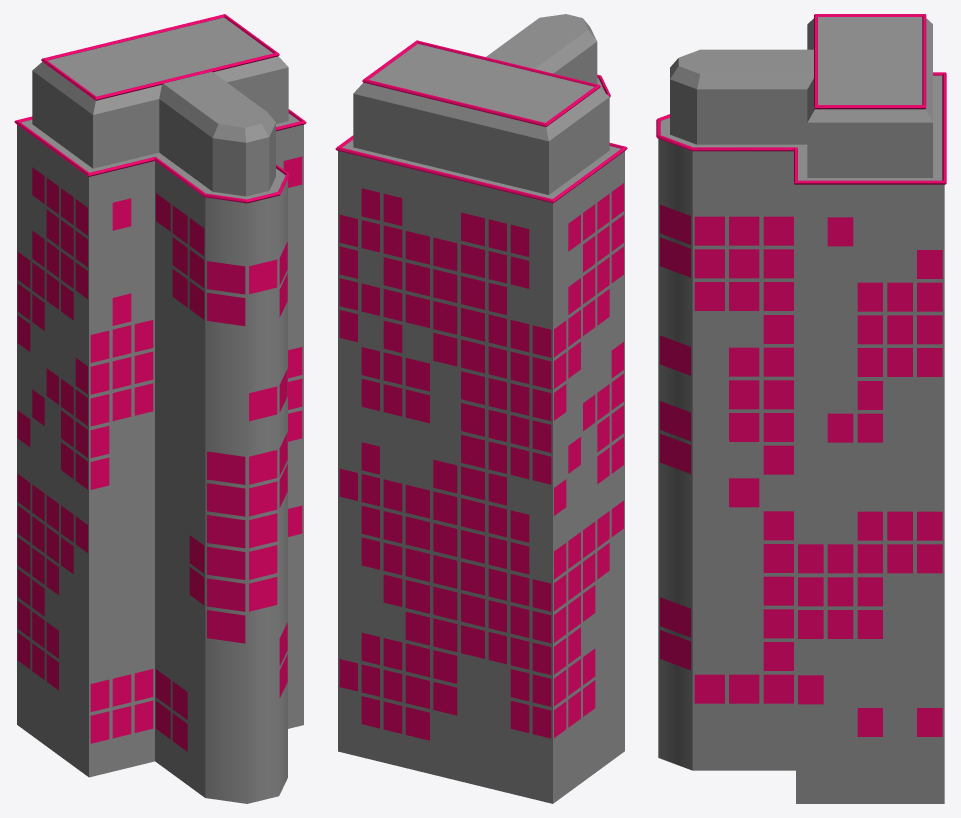
The model's file is obj_bbuilding005.FBX.
The picture shows the model from 3 angles, left to right: view 1: azimuth 30°, elevation 25°; view 2: azimuth 150°, elevation 25°; view 3: azimuth 270°, elevation 25°; orthographic projection. The views are drawn at different scales.
Parts seen in each view (by area): view 1: bbuilding004; view 2: bbuilding004; view 3: bbuilding004.
Boxes of the visible parts, x1=… form: bbuilding004: x1=14, y1=14, x2=306, y2=803; bbuilding004: x1=335, y1=14, x2=627, y2=803; bbuilding004: x1=656, y1=14, x2=946, y2=803.
Bounding box in the file's own units: 6300 × 18439 × 7031.
